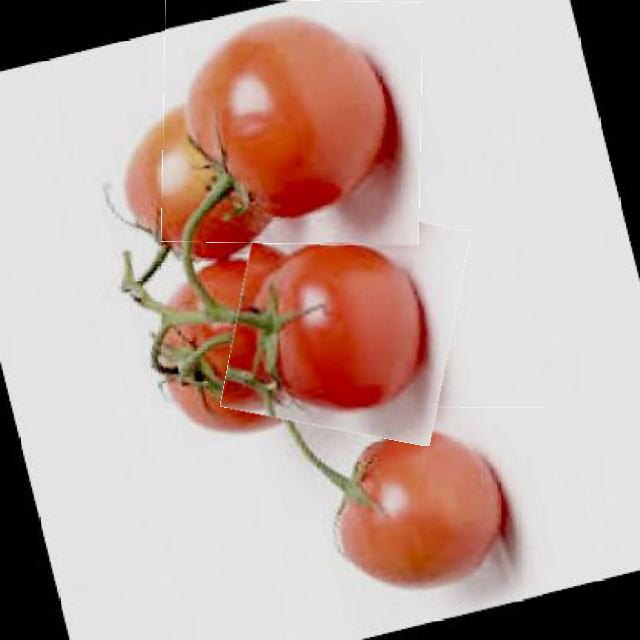tomato: (162, 0, 421, 244), (230, 200, 461, 437), (295, 407, 543, 618)
